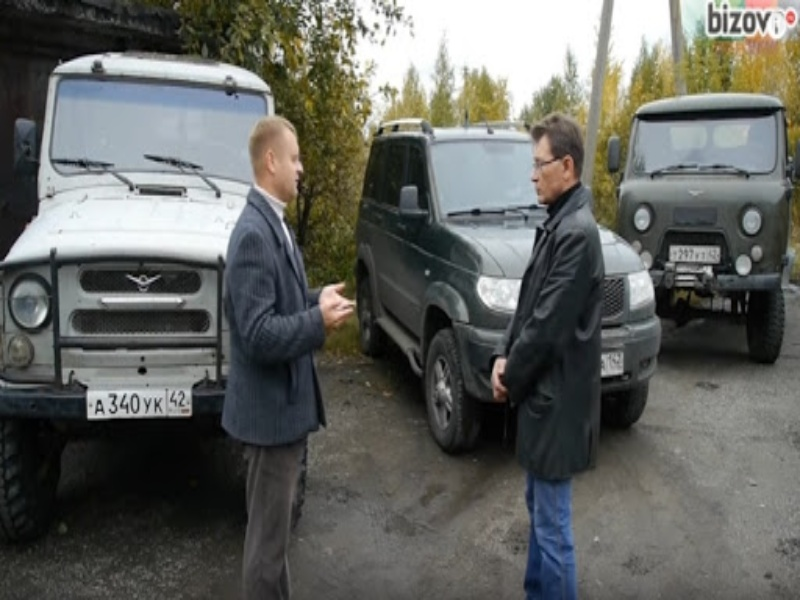car: (1, 49, 276, 535), (355, 118, 662, 445), (607, 94, 793, 366)
person: (221, 115, 357, 600), (490, 113, 605, 600)
plate: (86, 388, 192, 418), (669, 245, 719, 261), (602, 352, 622, 375)
